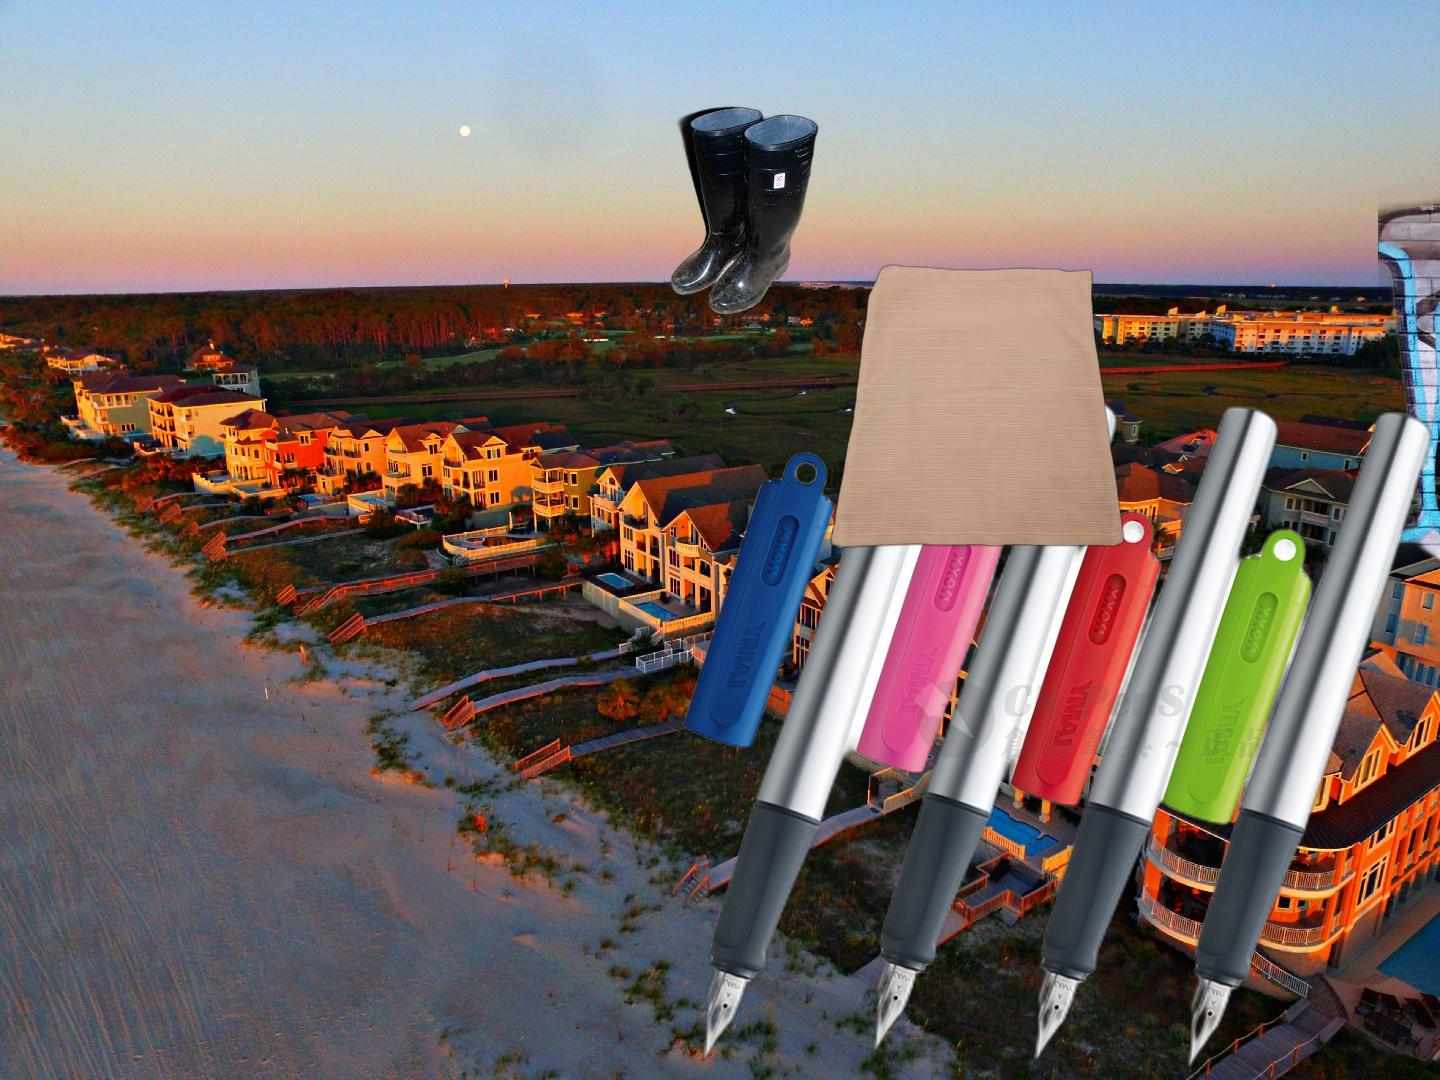clothes: (828, 261, 1128, 549)
penholder: (678, 389, 1439, 1073)
shoes: (668, 104, 821, 317)
trashbox-cardboard: (1378, 113, 1440, 802)
